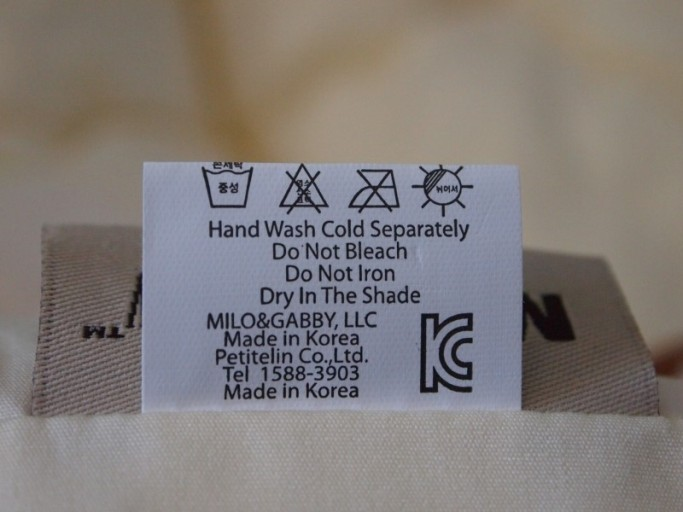KR_flat_dry_in_shade: (412, 165, 470, 216)
KR_hand_wash_30_neutral: (199, 161, 258, 211)
KR_no_bleach: (277, 162, 332, 213)
KR_no_iron: (350, 166, 402, 214)
